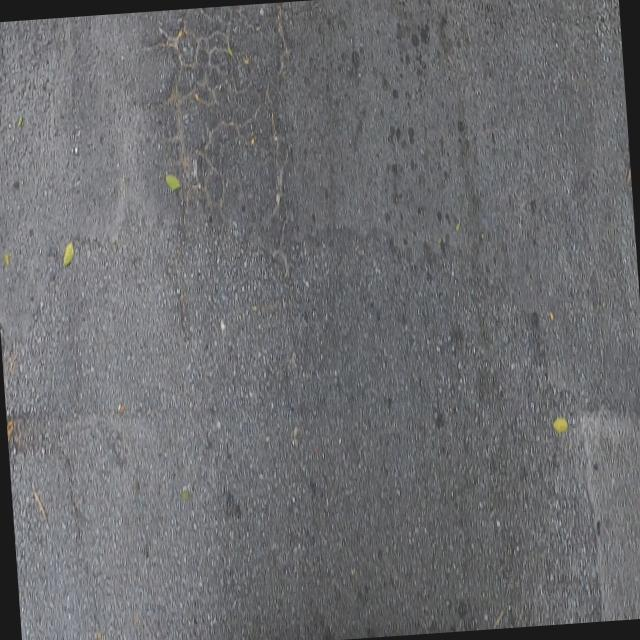Retak-Buaya: (150, 1, 296, 242)
